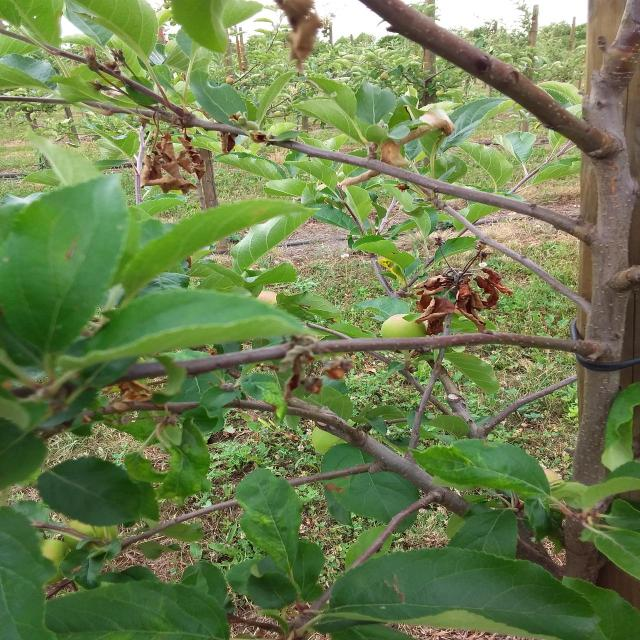-FireBlight-: (414, 264, 498, 337), (136, 105, 202, 194)
